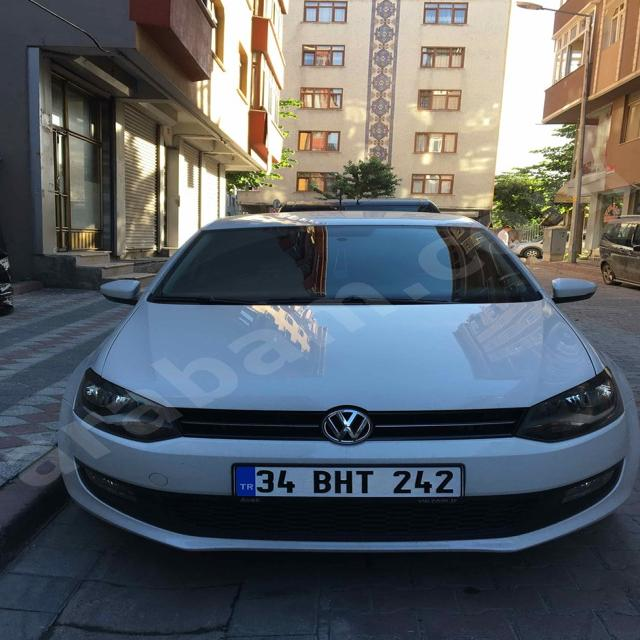license_plate: (233, 465, 462, 496)
